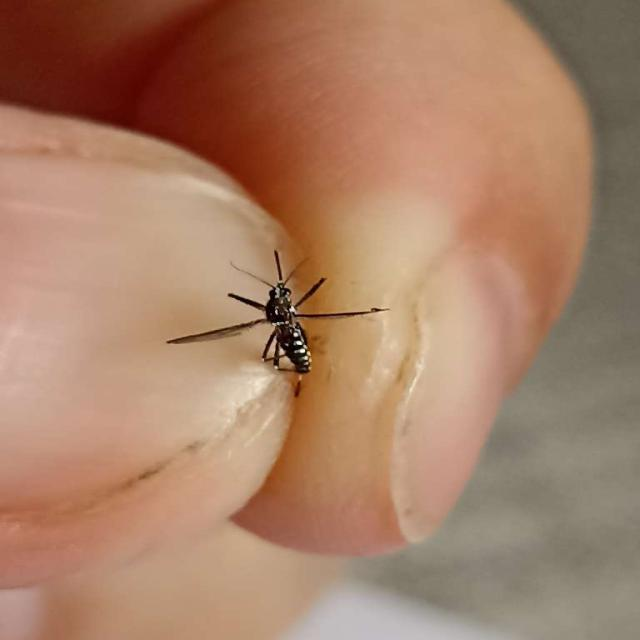albopictus: (168, 241, 396, 392)
